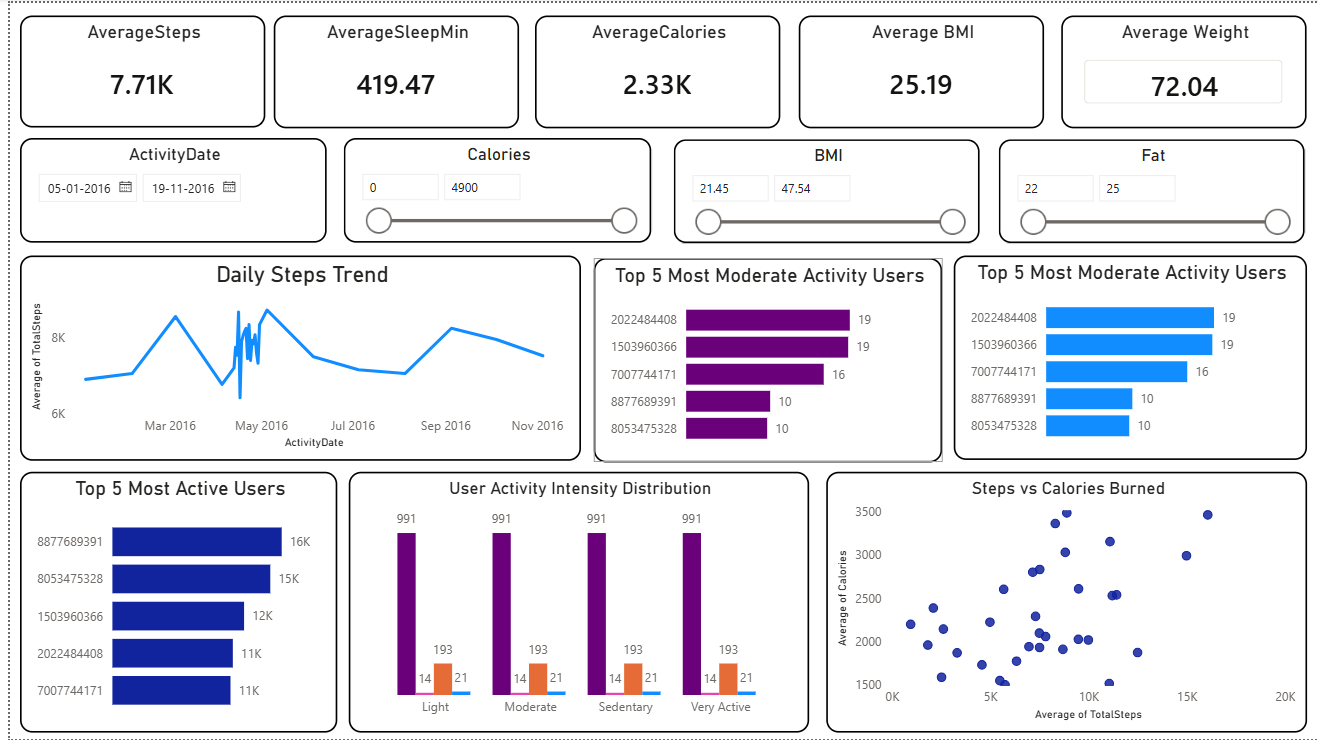

The page's visual inventory and layout, read from the dashboard file:
{"tool":"powerbi","page":{"name":"1. User Activity Overview Dashboard","canvas":[1280,720],"ordinal":0},"visuals":[{"type":"lineChart","title":"Daily Steps Trend","fields":{"Category":["dailyActivity_merged.ActivityDate"],"Y":["Avg(dailyActivity_merged.TotalSteps)"]},"box":[10.1,247.4,549.1,200.7],"z":0},{"type":"clusteredBarChart","title":"Top 5 Most Active Users","fields":{"Category":["dailyActivity_merged.Id"],"Y":["Avg(dailyActivity_merged.TotalSteps)"]},"box":[10.1,458.2,310.5,255],"z":1000},{"type":"clusteredColumnChart","title":"User Activity Intensity Distribution","fields":{"Category":["ActivityType.ActivityType"],"Y":["dailyIntensities_merged.Avg Sedentary Minutes","dailyIntensities_merged.Avg Moderate Activity Minutes","dailyIntensities_merged.Avg Light Activity Minutes","dailyIntensities_merged.Avg Very Active Minutes"]},"box":[331.4,458.9,450,255],"z":2000},{"type":"scatterChart","title":"Steps vs Calories Burned","fields":{"Category":["dailyActivity_merged.Id"],"X":["Avg(dailyActivity_merged.TotalSteps)"],"Y":["Avg(dailyActivity_merged.Calories)"]},"box":[798.8,458.4,470.4,255],"z":3000},{"type":"cardVisual","title":"AverageSteps","fields":{"Data":["dailyActivity_merged.Average Steps"]},"box":[10.1,11.9,239.8,109.8],"z":4000},{"type":"cardVisual","title":"AverageCalories","fields":{"Data":["dailyActivity_merged.Average Calories"]},"box":[513.6,11.8,240,110],"z":5000},{"type":"cardVisual","title":"AverageSleepMin","fields":{"Data":["dailyActivity_merged.Average Sleep Minutes"]},"box":[258,11.8,240,110],"z":6000},{"type":"cardVisual","title":"Average BMI","fields":{"Data":["weightLogInfo_merged1.Average BMI"]},"box":[771.6,11.8,240,110],"z":7000},{"type":"cardVisual","title":"Average Weight","fields":{"Data":["weightLogInfo_merged1.AverageWeight"]},"box":[1028.4,11.8,240,110],"z":8000},{"type":"slicer","title":"ActivityDate","fields":{"Values":["dailyActivity_merged.ActivityDate"]},"box":[10.1,132.7,300,102.2],"z":9000},{"type":"slicer","title":"BMI","fields":{"Values":["weightLogInfo_merged1.BMI"]},"box":[649.3,133.1,299.6,101.5],"z":10000},{"type":"slicer","title":"Calories","fields":{"Values":["dailyActivity_merged.Calories"]},"box":[326.5,132.4,300.8,102.7],"z":11000},{"type":"clusteredBarChart","title":"Top 5 Most Moderate Activity Users","fields":{"Category":["dailyActivity_merged.Id"],"Y":["dailyIntensities_merged.Avg Moderate Activity Minutes"]},"box":[923.3,247.3,345.7,199.7],"z":12000},{"type":"clusteredBarChart","title":"Top 5 Most Moderate Activity Users","fields":{"Category":["dailyActivity_merged.Id"],"Y":["dailyIntensities_merged.Avg Moderate Activity Minutes"]},"box":[571.5,248.9,341.1,199.7],"z":13000},{"type":"slicer","title":"Fat","fields":{"Values":["weightLogInfo_merged1.Fat"]},"box":[967.3,133.1,299.6,101.5],"z":14000}]}

Visuals, with their boxes in screenshot pixels (x1, y1, x2, y2), scaled from the page's 1280x720 canvas onto the 1318x742 screenshot:
"Daily Steps Trend" lineChart: detection(10, 255, 576, 462)
"Top 5 Most Active Users" clusteredBarChart: detection(10, 472, 330, 735)
"User Activity Intensity Distribution" clusteredColumnChart: detection(341, 473, 805, 736)
"Steps vs Calories Burned" scatterChart: detection(823, 472, 1307, 735)
"AverageSteps" cardVisual: detection(10, 12, 257, 125)
"AverageCalories" cardVisual: detection(529, 12, 776, 126)
"AverageSleepMin" cardVisual: detection(266, 12, 513, 126)
"Average BMI" cardVisual: detection(795, 12, 1042, 126)
"Average Weight" cardVisual: detection(1059, 12, 1306, 126)
"ActivityDate" slicer: detection(10, 137, 319, 242)
"BMI" slicer: detection(669, 137, 977, 242)
"Calories" slicer: detection(336, 136, 646, 242)
"Top 5 Most Moderate Activity Users" clusteredBarChart: detection(951, 255, 1307, 461)
"Top 5 Most Moderate Activity Users" clusteredBarChart: detection(588, 257, 940, 462)
"Fat" slicer: detection(996, 137, 1305, 242)
